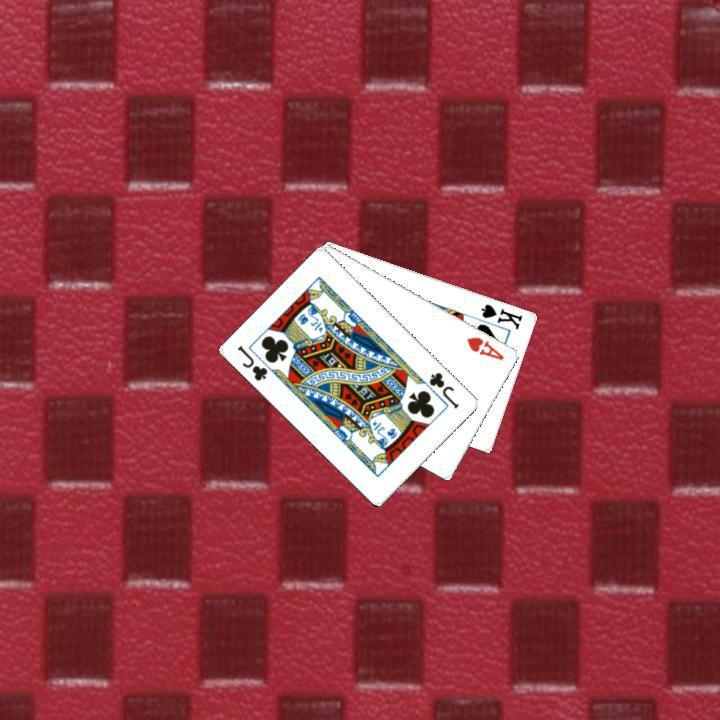A: (462, 332, 506, 362)
J: (233, 341, 270, 383), (425, 368, 461, 411)
K: (477, 299, 525, 331)
